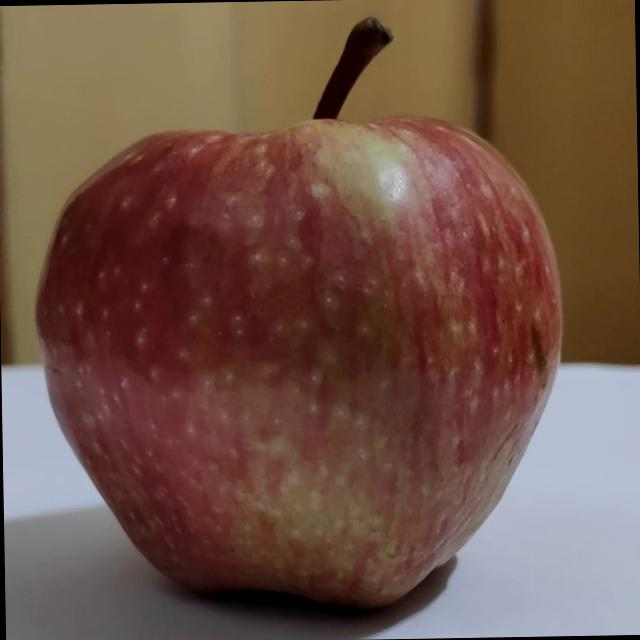apple: (17, 0, 615, 633)
